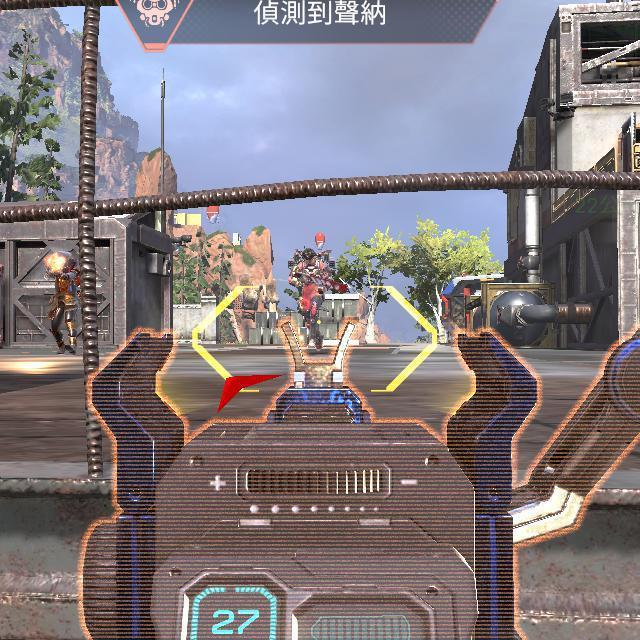avatar: (289, 247, 337, 350), (44, 250, 81, 354)
object: (43, 251, 66, 275)
